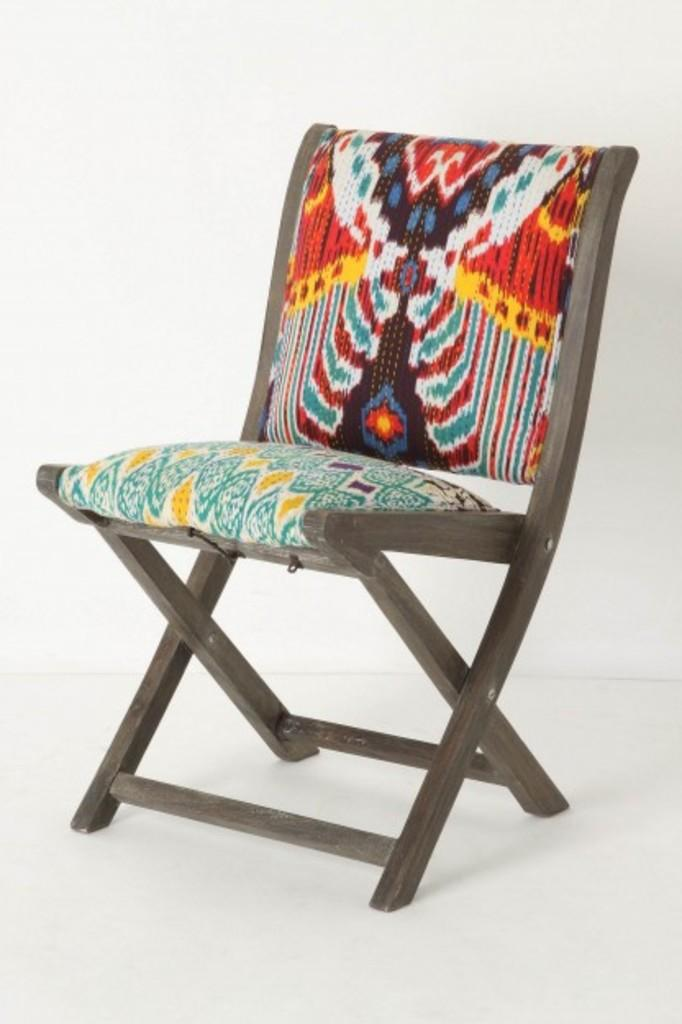Chair: (39, 93, 641, 883)
